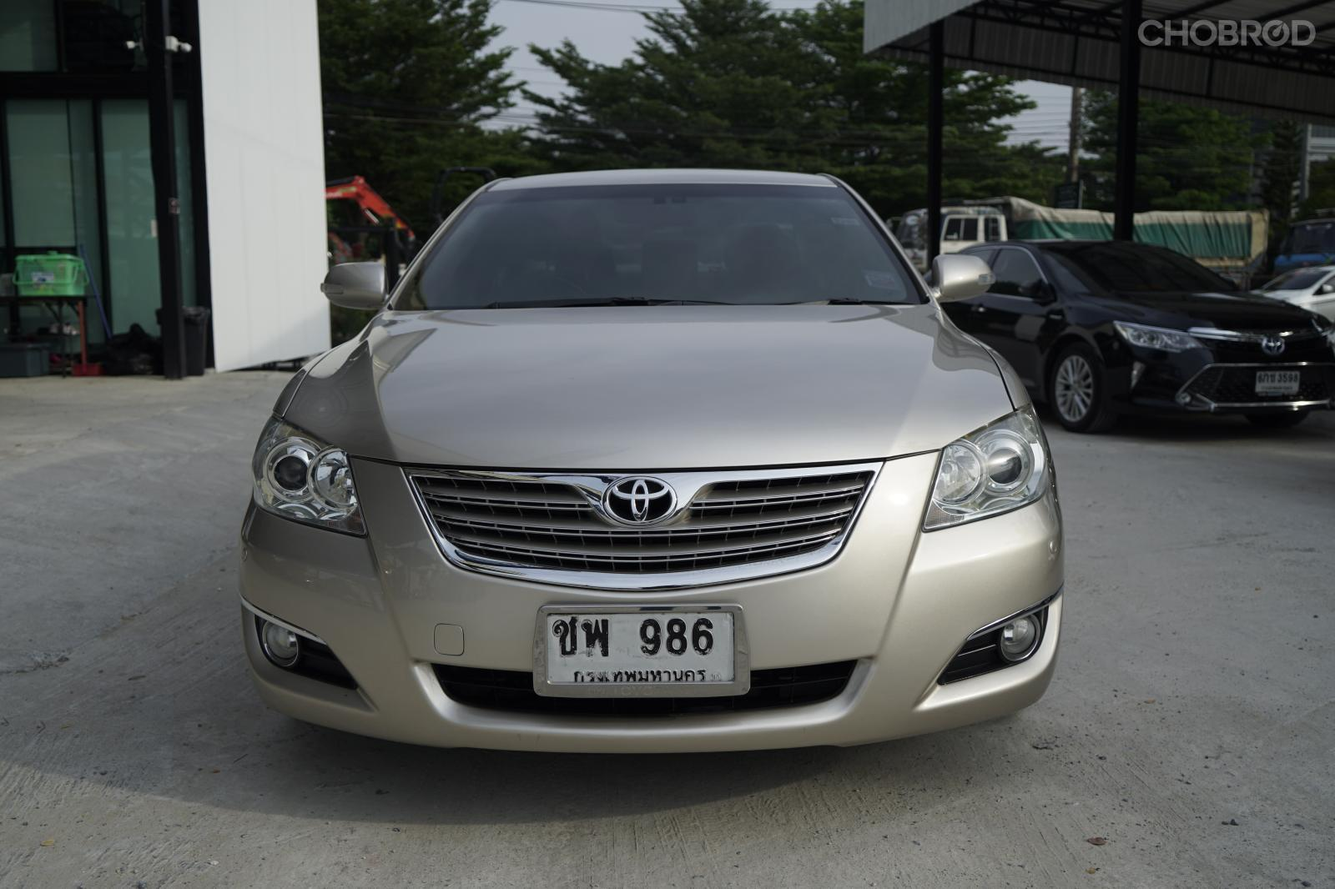license-plate: (517, 594, 759, 704)
